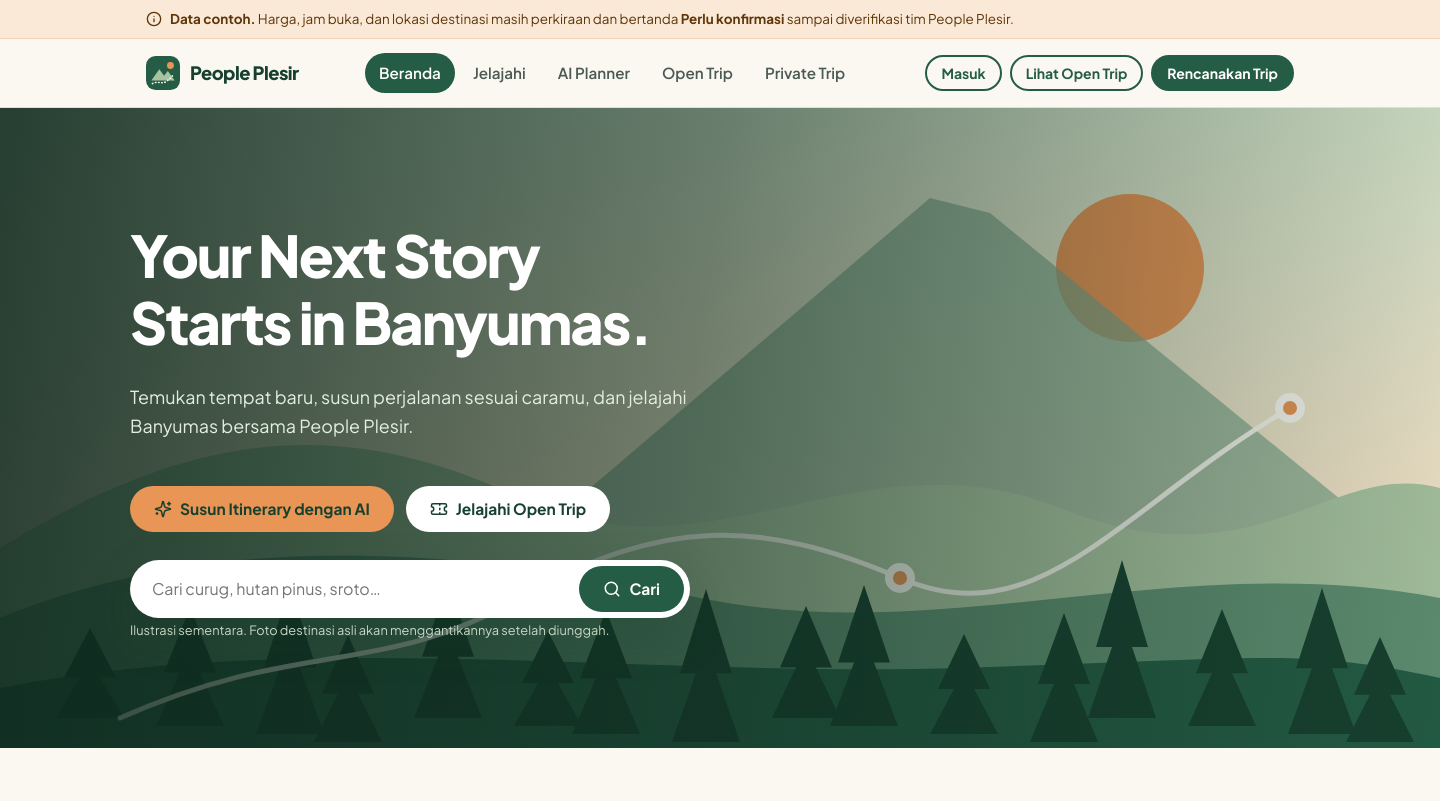
Test case: navigasi › berpindah halaman lewat menu
Click the link to "/open-trip" at (698, 72), box [662,62,733,81]
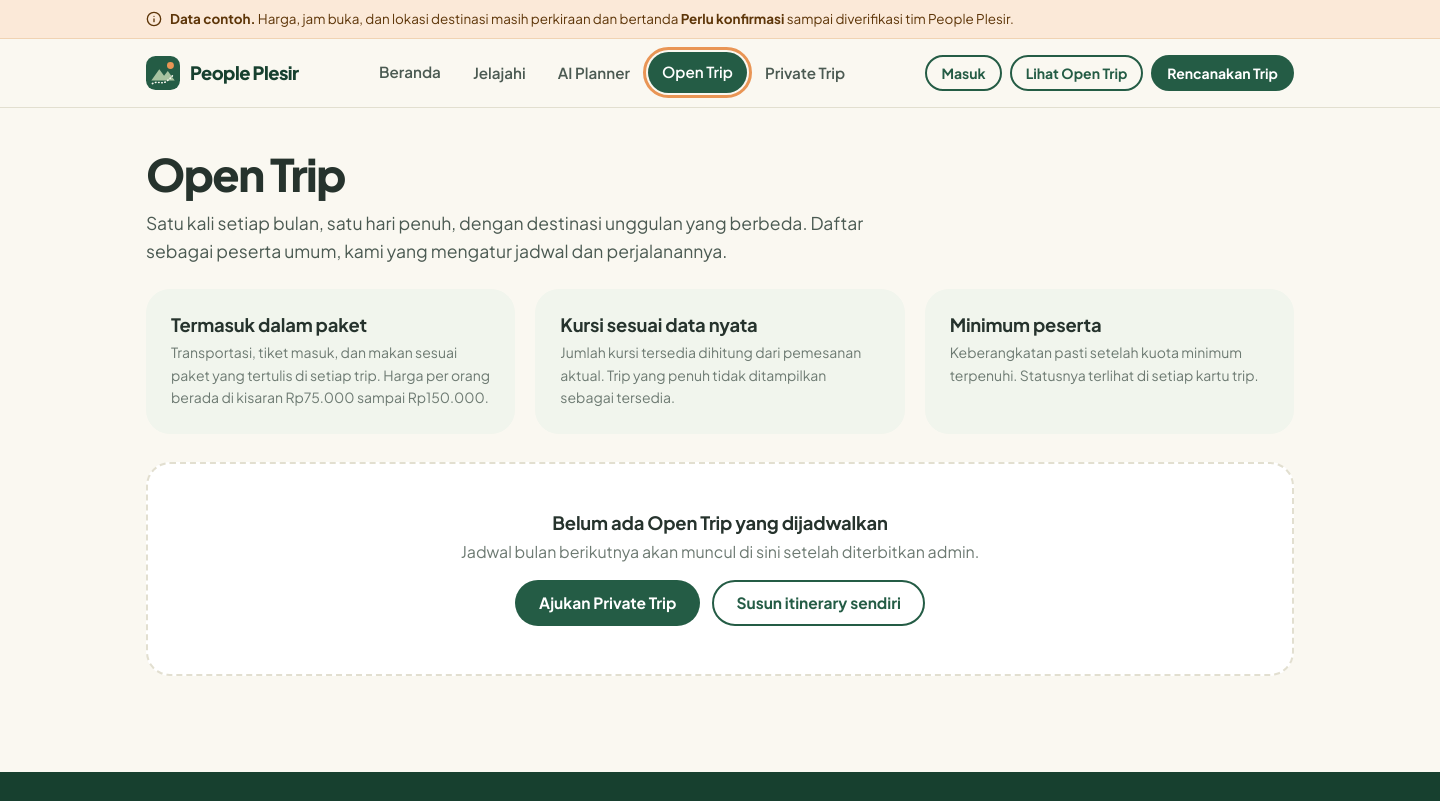
Result: the heading "Open Trip" is shown at [146,144,345,202]
